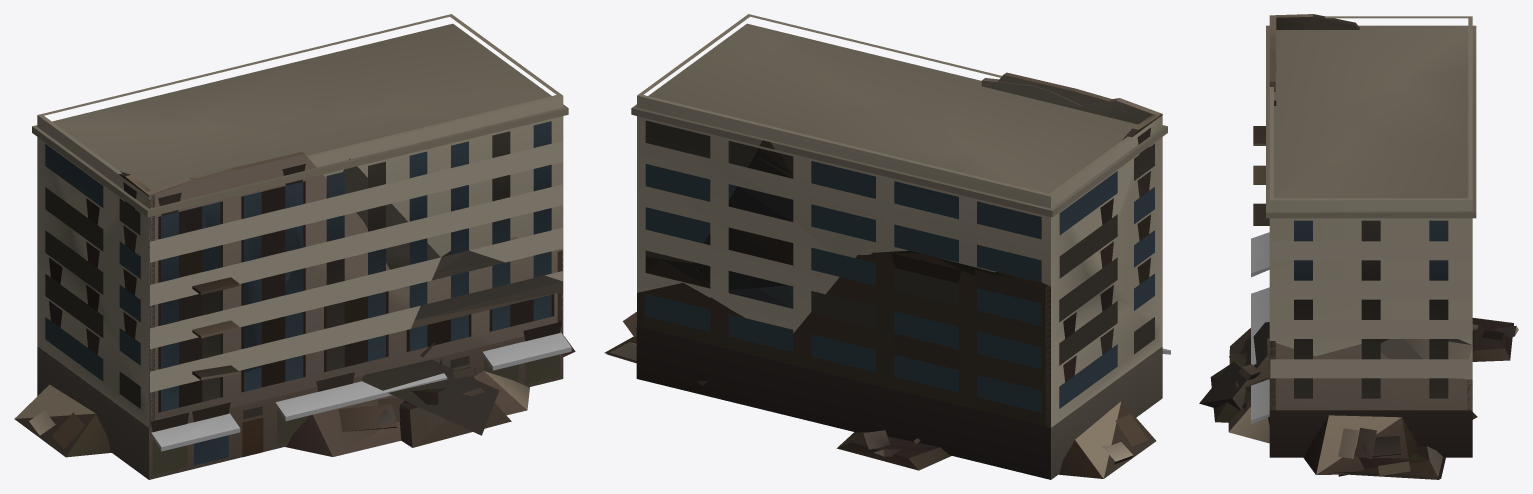
Rendered from bld_any_apartment_fractured.glb.
3 renders of one model, left to right at view 1: azimuth 30°, elevation 25°; view 2: azimuth 150°, elevation 25°; view 3: azimuth 270°, elevation 25°, orthographic. The views are drawn at different scales.
Parts seen in each view (by area): view 1: bld_any_apartment_DMG_mesh, bld_any_apartment_RUIN_LOD1_mesh, bld_any_apartment_RUIN_LOD0_mesh, bld_any_apartment_FRAC_16_mesh, bld_any_apartment_FRAC_10_mesh, bld_any_apartment_FRAC_12_mesh, bld_any_apartment_FRAC_13_mesh, bld_any_apartment_FRAC_15_mesh, bld_any_apartment_FRAC_17_mesh, bld_any_apartment_FRAC_14_mesh, bld_any_apartment_RUIN_LOD2_mesh, bld_any_apartment_FRAC_08_mesh (+6 smaller); view 2: bld_any_apartment_DMG_mesh, bld_any_apartment_RUIN_LOD1_mesh, bld_any_apartment_FRAC_17_mesh, bld_any_apartment_RUIN_LOD0_mesh, bld_any_apartment_FRAC_15_mesh, bld_any_apartment_FRAC_13_mesh, bld_any_apartment_FRAC_16_mesh, bld_any_apartment_FRAC_14_mesh, bld_any_apartment_FRAC_11_mesh, bld_any_apartment_FRAC_09_mesh, bld_any_apartment_FRAC_08_mesh, bld_any_apartment_FRAC_12_mesh (+2 smaller); view 3: bld_any_apartment_FRAC_12_mesh, bld_any_apartment_FRAC_17_mesh, bld_any_apartment_RUIN_LOD1_mesh, bld_any_apartment_RUIN_LOD0_mesh, bld_any_apartment_FRAC_14_mesh, bld_any_apartment_FRAC_16_mesh, bld_any_apartment_FRAC_15_mesh, bld_any_apartment_FRAC_13_mesh, bld_any_apartment_FRAC_07_mesh, bld_any_apartment_DMG_mesh, bld_any_apartment_FRAC_09_mesh, bld_any_apartment_FRAC_11_mesh.
Boxes of the visible parts, left/top/right/bottom form: bld_any_apartment_DMG_mesh: left=32, top=115, right=571, bottom=465; bld_any_apartment_RUIN_LOD1_mesh: left=48, top=152, right=563, bottom=456; bld_any_apartment_RUIN_LOD0_mesh: left=14, top=163, right=575, bottom=479; bld_any_apartment_FRAC_16_mesh: left=320, top=85, right=522, bottom=257; bld_any_apartment_FRAC_10_mesh: left=281, top=137, right=440, bottom=361; bld_any_apartment_FRAC_12_mesh: left=457, top=64, right=568, bottom=281; bld_any_apartment_FRAC_13_mesh: left=32, top=88, right=179, bottom=272; bld_any_apartment_FRAC_15_mesh: left=163, top=46, right=354, bottom=137; bld_any_apartment_FRAC_17_mesh: left=321, top=14, right=520, bottom=92; bld_any_apartment_FRAC_14_mesh: left=147, top=123, right=350, bottom=204; bld_any_apartment_RUIN_LOD2_mesh: left=147, top=193, right=563, bottom=479; bld_any_apartment_FRAC_08_mesh: left=81, top=185, right=178, bottom=364; bld_any_apartment_DMG_mesh: left=645, top=115, right=1170, bottom=479; bld_any_apartment_RUIN_LOD1_mesh: left=636, top=72, right=1162, bottom=479; bld_any_apartment_FRAC_17_mesh: left=631, top=45, right=802, bottom=263; bld_any_apartment_RUIN_LOD0_mesh: left=606, top=78, right=1162, bottom=479; bld_any_apartment_FRAC_15_mesh: left=768, top=100, right=956, bottom=266; bld_any_apartment_FRAC_13_mesh: left=940, top=136, right=1146, bottom=321; bld_any_apartment_FRAC_16_mesh: left=759, top=24, right=962, bottom=112; bld_any_apartment_FRAC_14_mesh: left=932, top=66, right=1136, bottom=155; bld_any_apartment_FRAC_11_mesh: left=693, top=111, right=841, bottom=290; bld_any_apartment_FRAC_09_mesh: left=858, top=147, right=981, bottom=268; bld_any_apartment_FRAC_08_mesh: left=1095, top=124, right=1167, bottom=310; bld_any_apartment_FRAC_12_mesh: left=698, top=14, right=796, bottom=63; bld_any_apartment_FRAC_12_mesh: left=1266, top=182, right=1427, bottom=369; bld_any_apartment_FRAC_17_mesh: left=1335, top=142, right=1476, bottom=344; bld_any_apartment_RUIN_LOD1_mesh: left=1213, top=35, right=1472, bottom=476; bld_any_apartment_RUIN_LOD0_mesh: left=1199, top=14, right=1518, bottom=479; bld_any_apartment_FRAC_14_mesh: left=1266, top=37, right=1405, bottom=115; bld_any_apartment_FRAC_16_mesh: left=1266, top=105, right=1403, bottom=190; bld_any_apartment_FRAC_15_mesh: left=1325, top=72, right=1476, bottom=150; bld_any_apartment_FRAC_13_mesh: left=1308, top=16, right=1476, bottom=73; bld_any_apartment_FRAC_07_mesh: left=1270, top=326, right=1471, bottom=398; bld_any_apartment_DMG_mesh: left=1251, top=232, right=1472, bottom=424; bld_any_apartment_FRAC_09_mesh: left=1401, top=65, right=1476, bottom=86; bld_any_apartment_FRAC_11_mesh: left=1402, top=150, right=1476, bottom=154.
Bounding box in the file's own units: 37.23 × 20.87 × 22.07.
